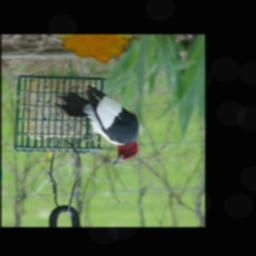Woodpecker: (54, 85, 139, 165)
